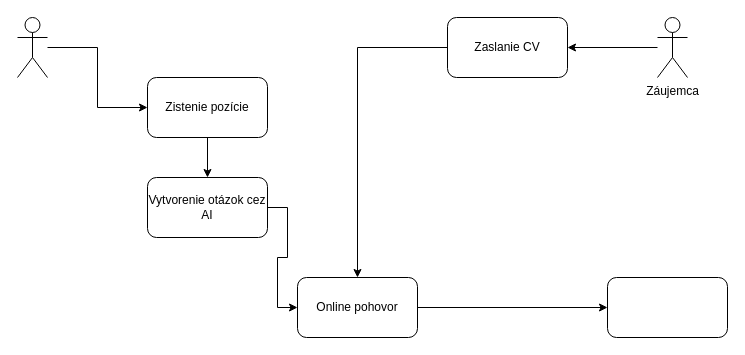
This 745x355 diagram has some shape labels left out. Each missing label, with the centre of its shape:
HR: point 32,47
Nahranie pohovoru: point 667,307
